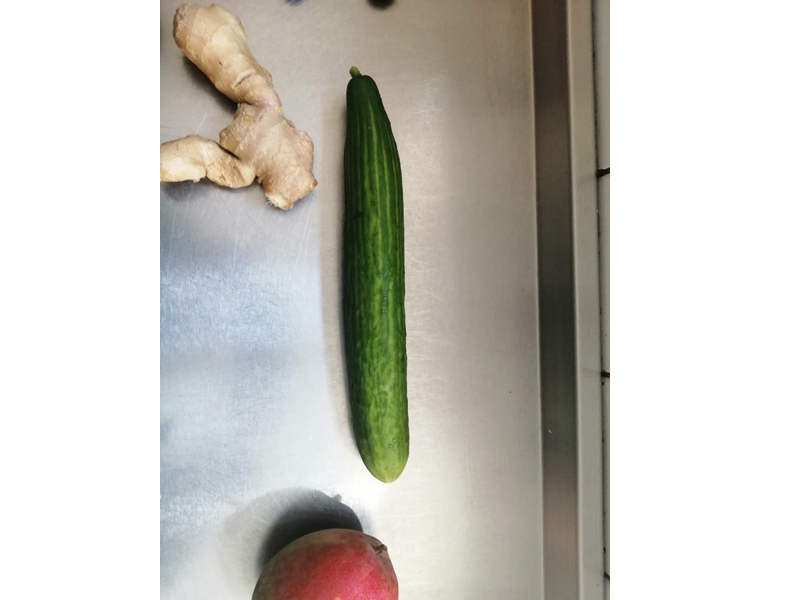cucumber: (327, 58, 426, 504)
ginger: (168, 2, 321, 213)
